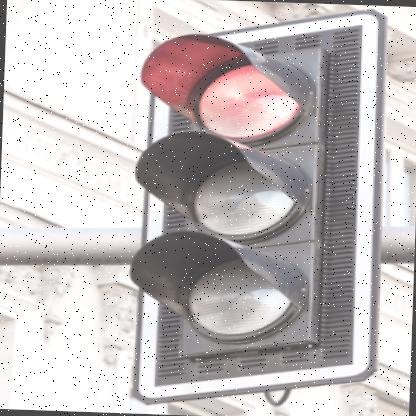trafficlight: (130, 1, 388, 412)
